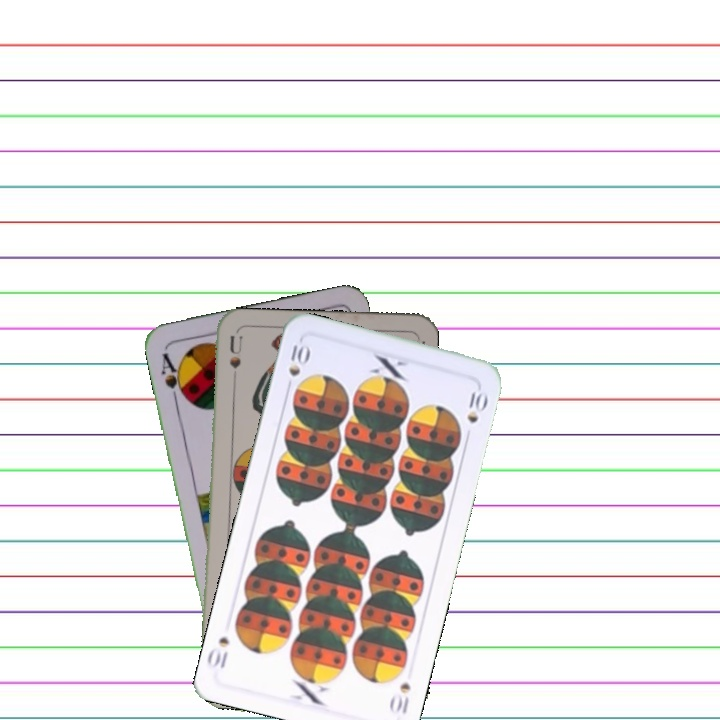S10: (282, 337, 312, 395), (386, 678, 413, 717)
SA: (157, 349, 189, 404)
SU: (225, 333, 243, 392)
